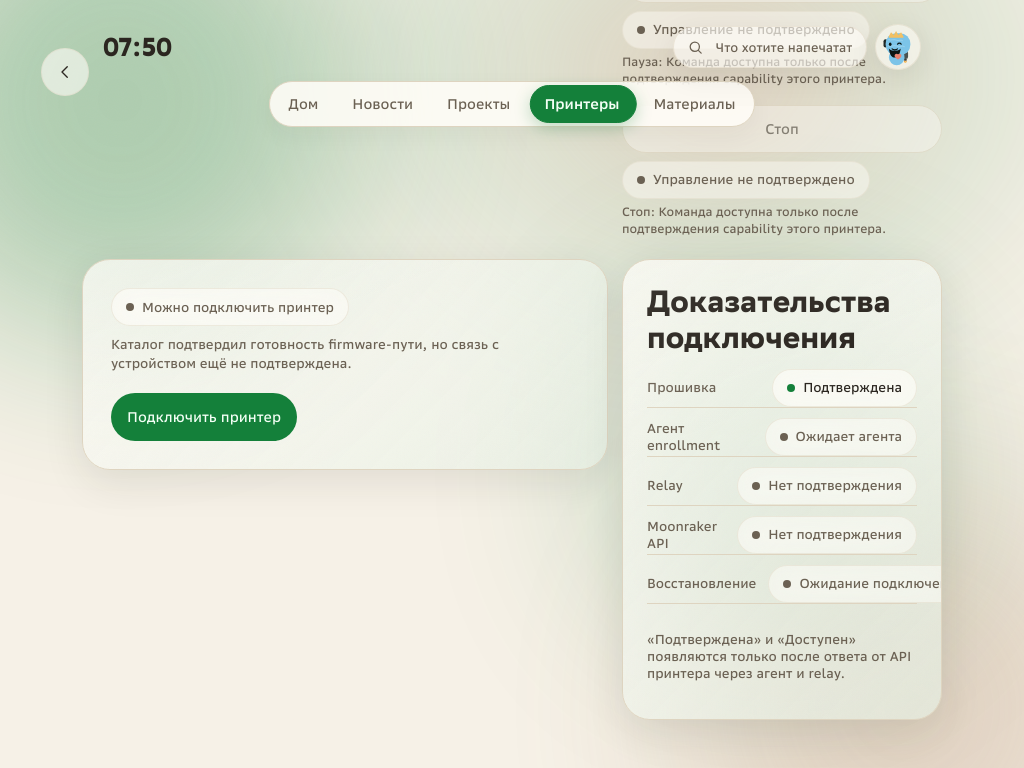
Scenario: MF-1665: матрица шести состояний подключения › firmware-ready: выдаёт новый enroll-код и не открывает опасные команды
The image size is (1024, 768).
(page scrolled)
Click the button "Подключить принтер": (204, 417) [111, 393, 297, 441]
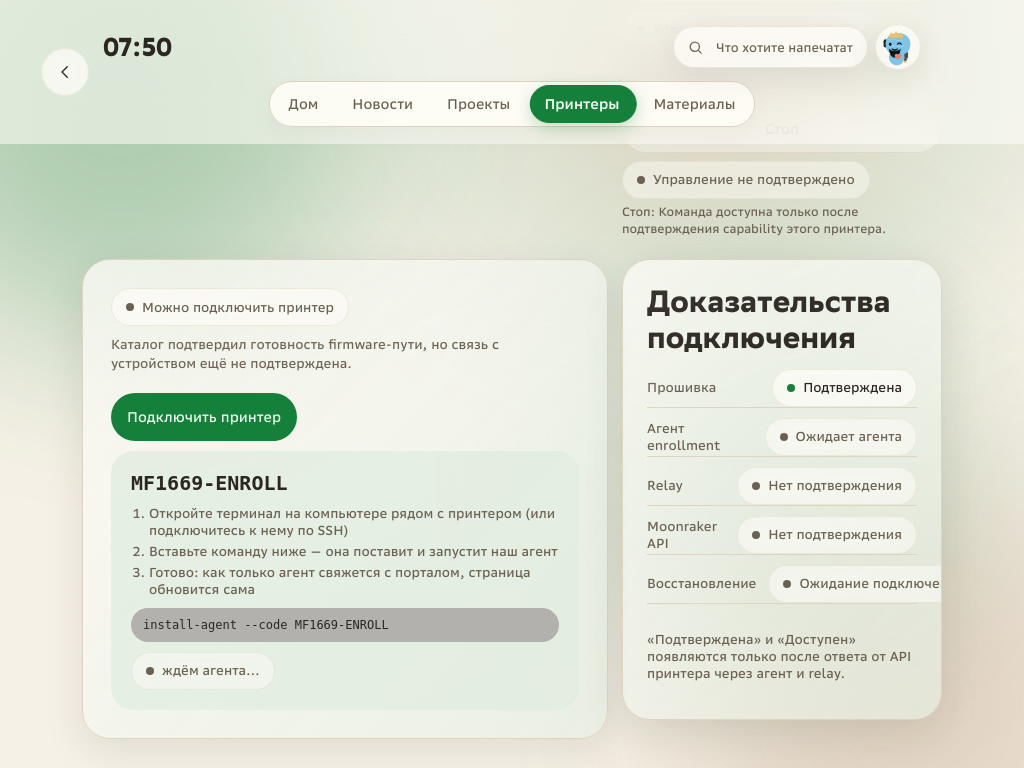
Check: the button "Стоп" is disabled, box [622, 105, 942, 153]
Check: the text "MF1669-ENROLL" is shown, box [131, 471, 288, 495]
